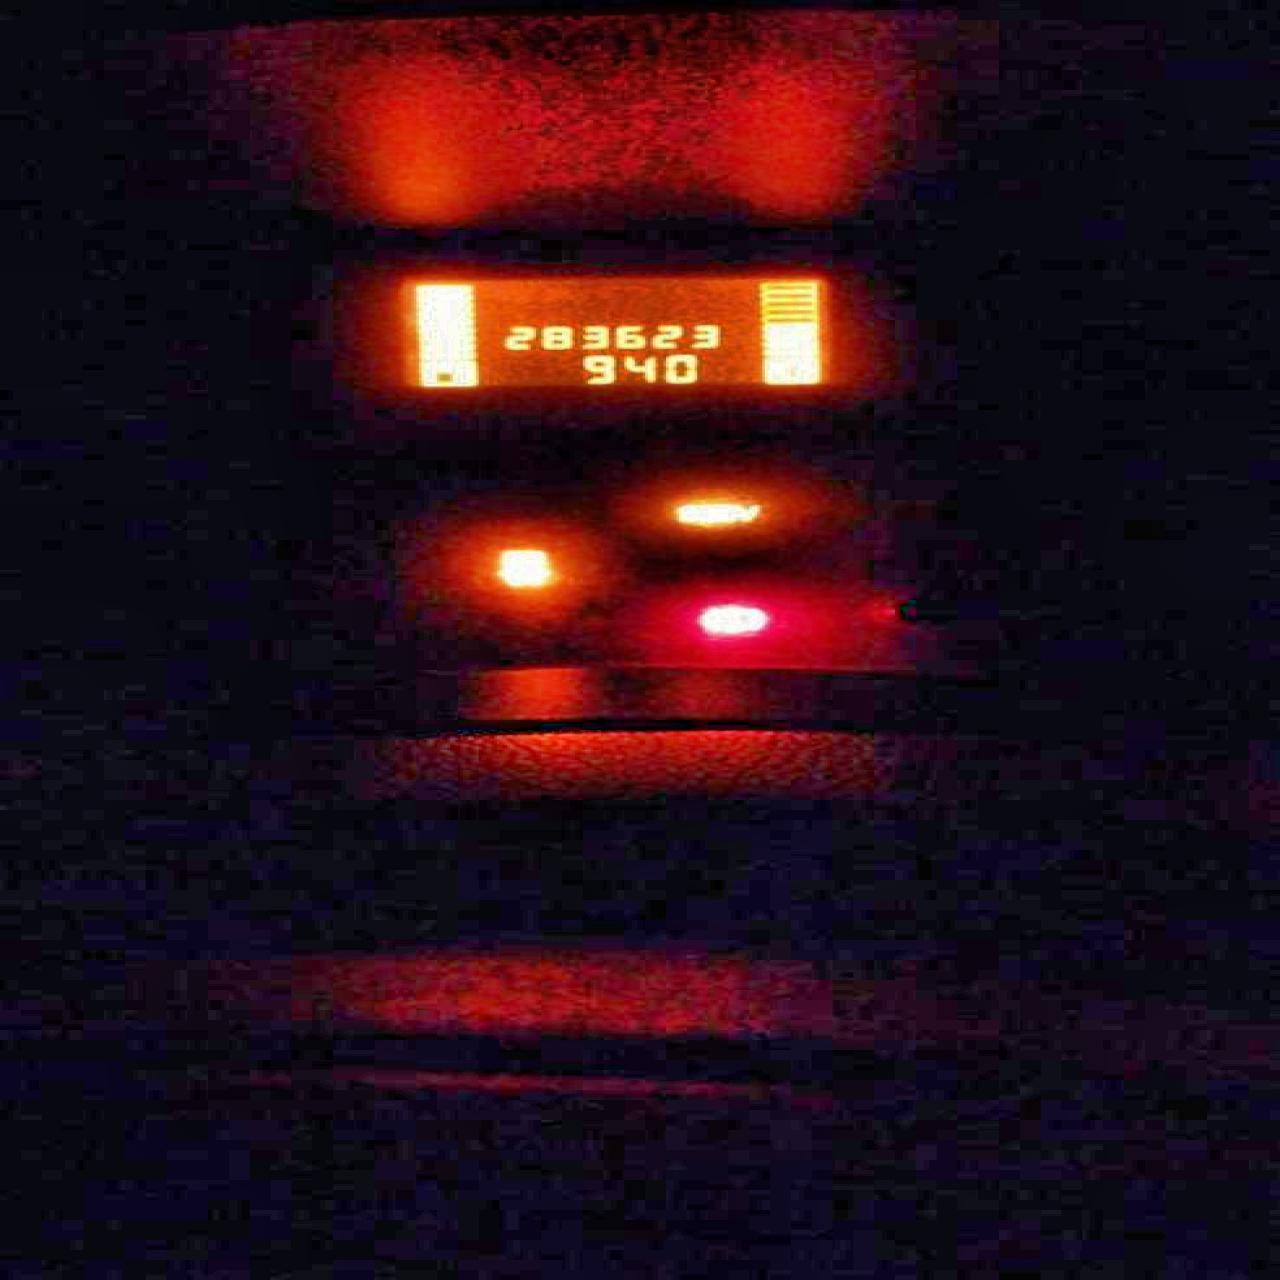0: (661, 352, 697, 382)
2: (650, 322, 681, 348), (502, 324, 533, 348)
3: (690, 322, 720, 348), (580, 324, 609, 348)
4: (619, 353, 653, 382)
6: (614, 322, 645, 348)
8: (538, 322, 572, 348)
9: (580, 352, 614, 383)
odometer: (372, 267, 856, 393)
